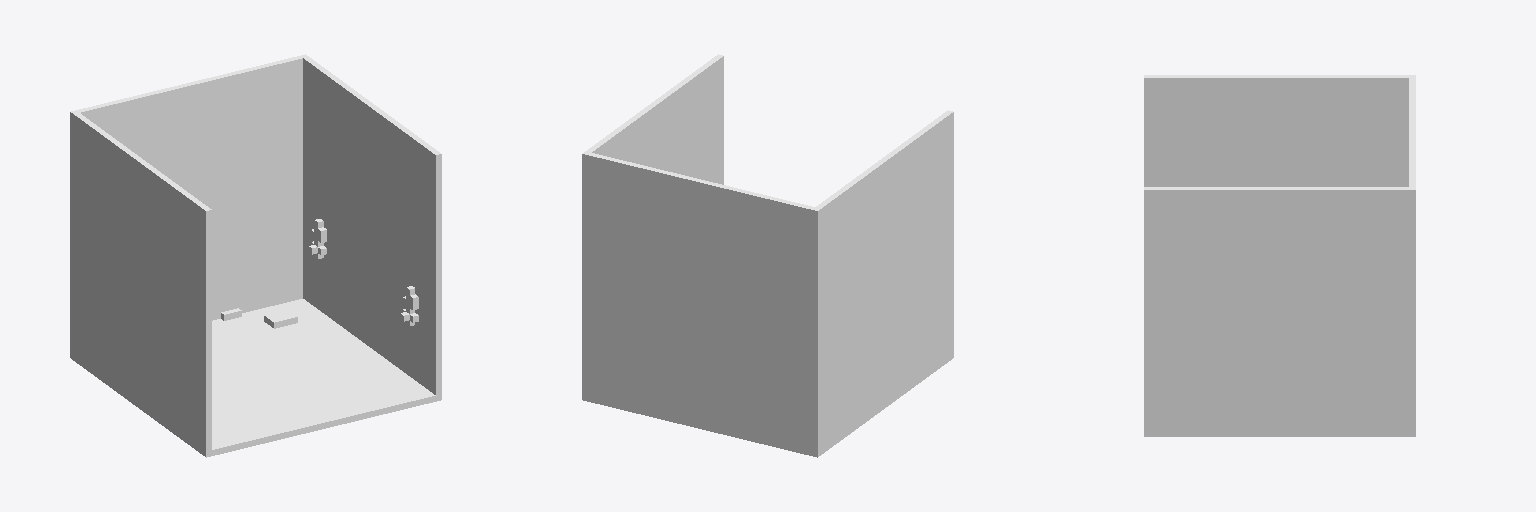
The model's file is SalaFinal.obj.
The picture shows the model from 3 angles: view 1: azimuth 30°, elevation 25°; view 2: azimuth 150°, elevation 25°; view 3: azimuth 270°, elevation 25°; orthographic projection.
Parts seen in each view (by area): view 1: SalaFinal; view 2: SalaFinal; view 3: SalaFinal.
Boxes of the visible parts, <box> form: SalaFinal: <box>70,54,441,457</box>; SalaFinal: <box>582,54,953,457</box>; SalaFinal: <box>1144,75,1415,436</box>.
Bounding box in the file's own units: 40 × 40 × 40.